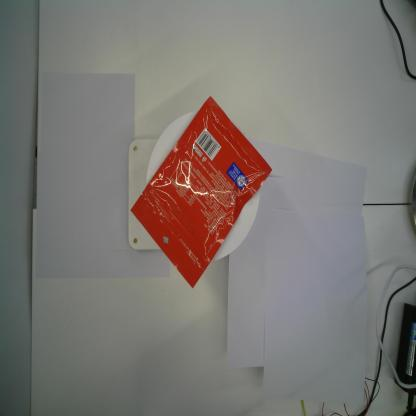Dried Fruit: (130, 95, 274, 290)
